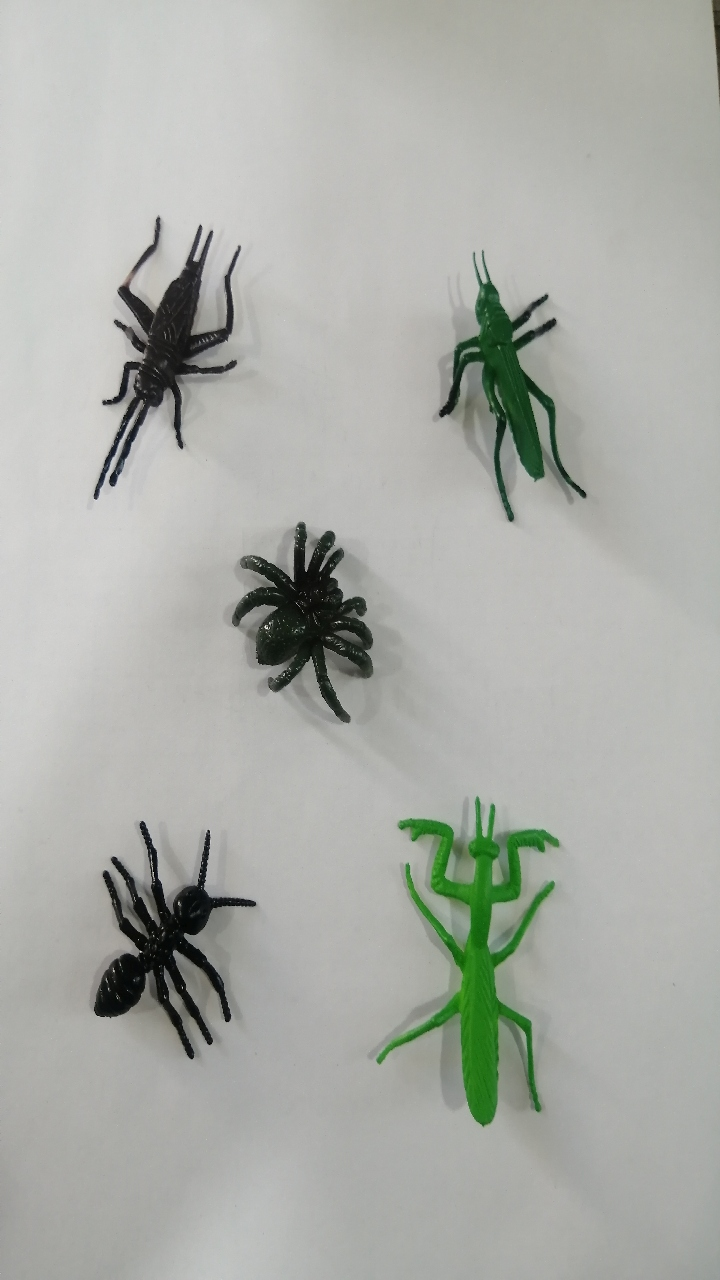intruso: (348, 777, 589, 1148), (43, 189, 263, 534), (41, 782, 275, 1085), (412, 219, 603, 569), (206, 505, 408, 740)
